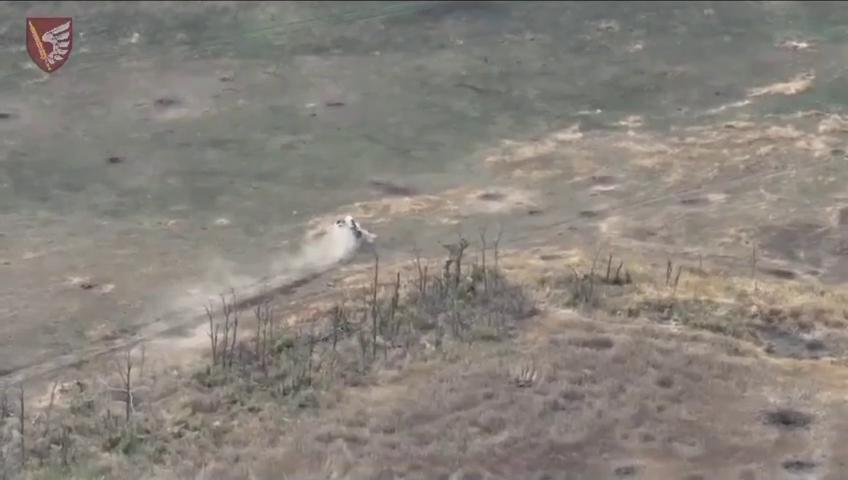tank: (326, 217, 367, 251)
